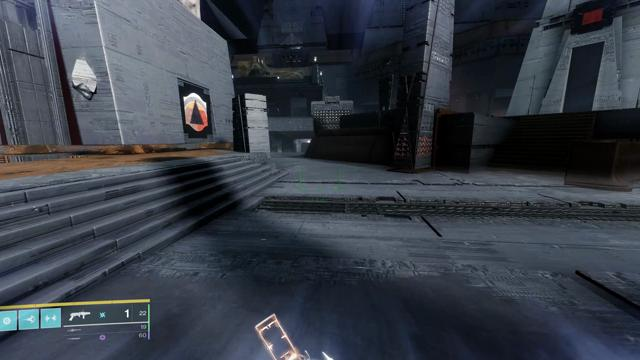pyramid: (183, 92, 208, 131)
